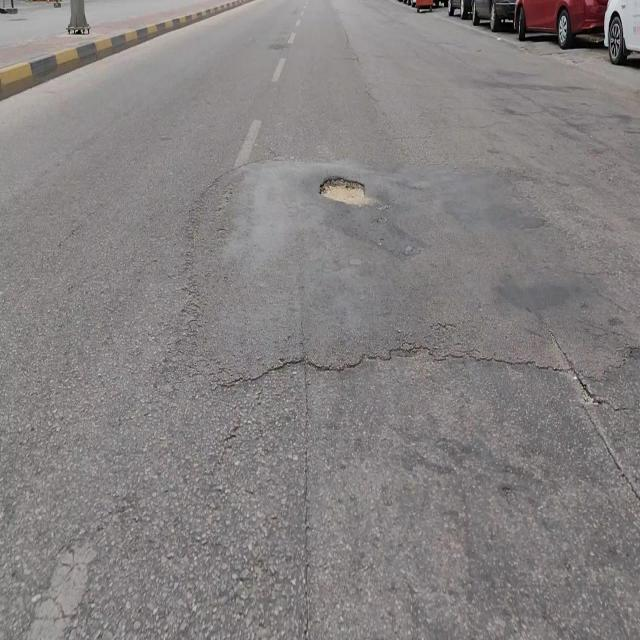Potholes: (319, 175, 367, 209)
